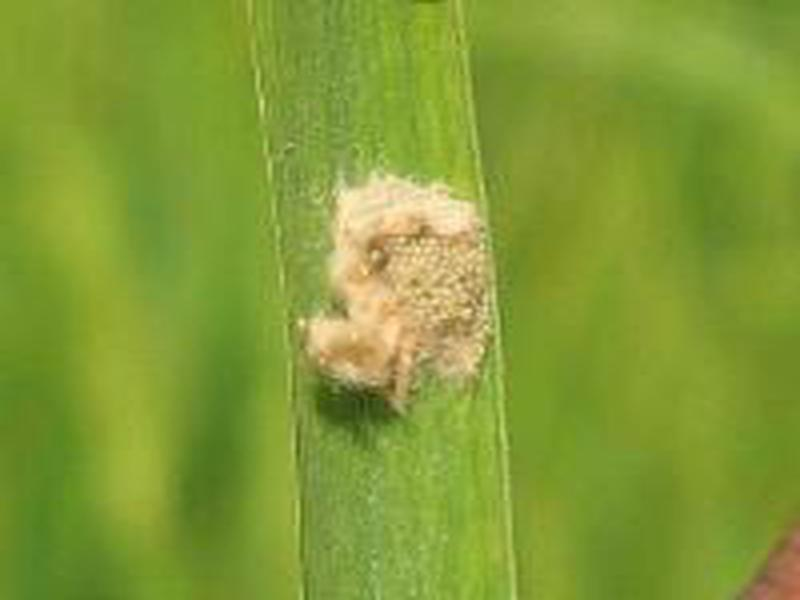Paddy_stemborer: (275, 157, 516, 439)
